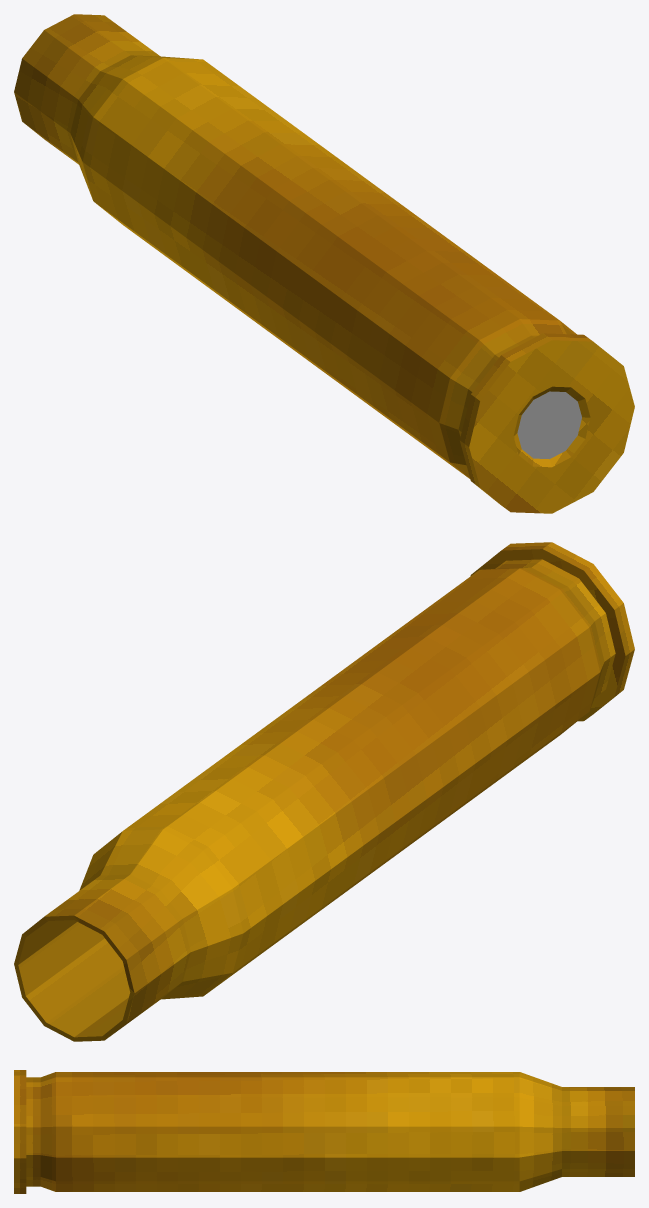
The model's file is RifleCasing.fbx.
The picture shows the model from 3 angles, top to bottom: view 1: azimuth 30°, elevation 25°; view 2: azimuth 150°, elevation 25°; view 3: azimuth 270°, elevation 25°; orthographic projection. The views are drawn at different scales.
Visible parts, largest first — view 1: Casing; view 2: Casing; view 3: Casing.
Boxes of the visible parts, <box> form: Casing: <box>14,14,634,513</box>; Casing: <box>14,542,634,1041</box>; Casing: <box>14,1070,634,1193</box>.
Bounding box in the file's own units: 1.32 × 1.32 × 6.59.
2 materials, 1 textured.
